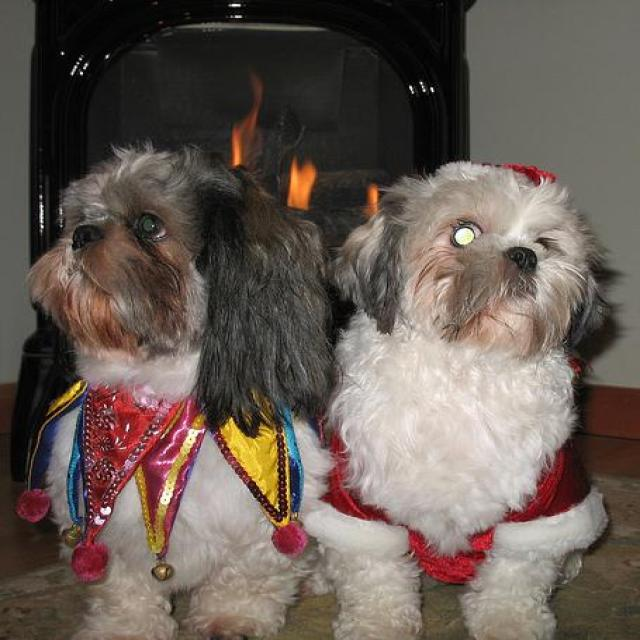shih_tzu: (303, 158, 616, 638), (22, 151, 320, 637)
